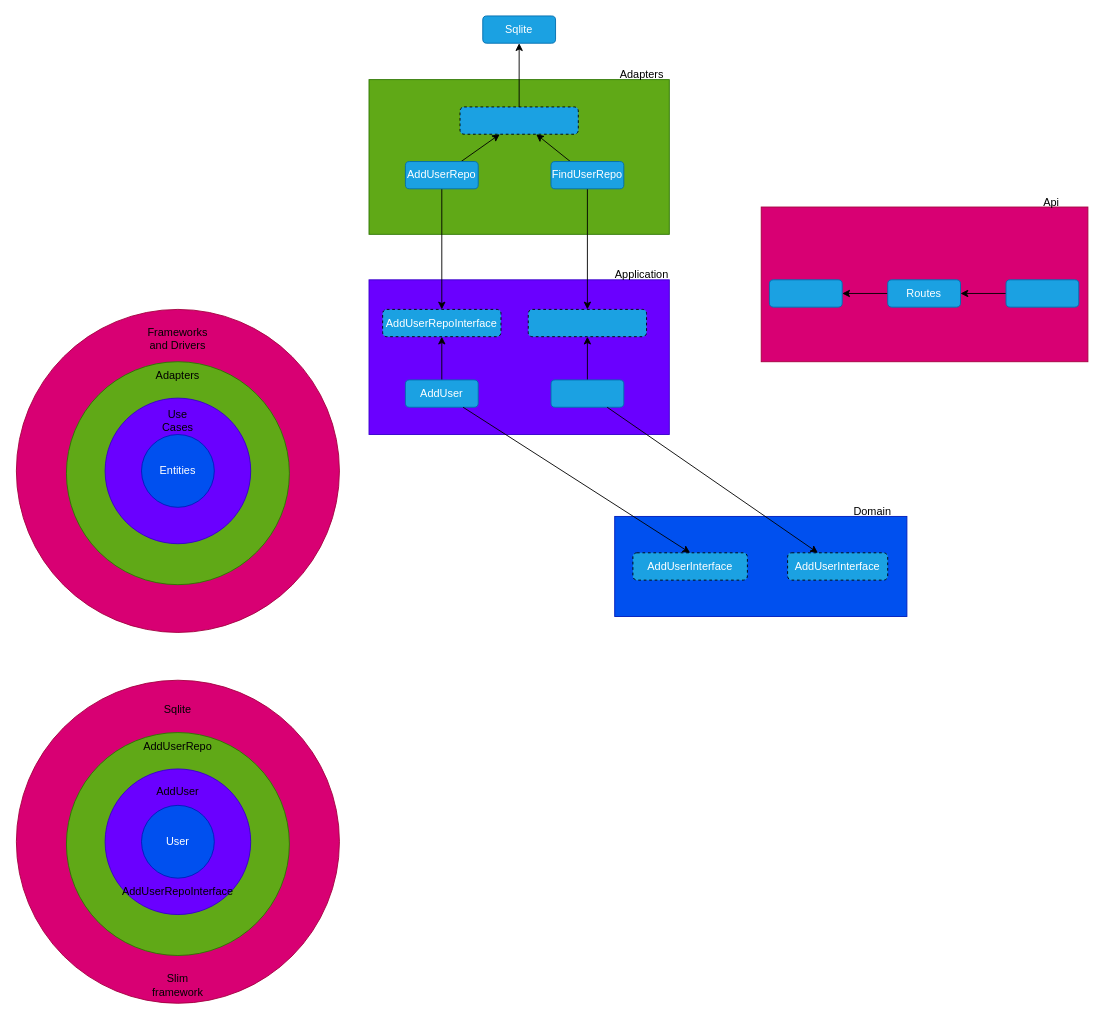
Some shapes in this 1104 by 1019 pixel diagram are drawn without their labels. Each missing label, with the box of its shape:
App: (1005, 279, 1079, 307)
DatabaseInterface: (459, 106, 578, 134)
Finduser: (550, 379, 624, 407)
FindUserRepoInterface: (527, 308, 647, 337)
UserController: (768, 279, 842, 307)
